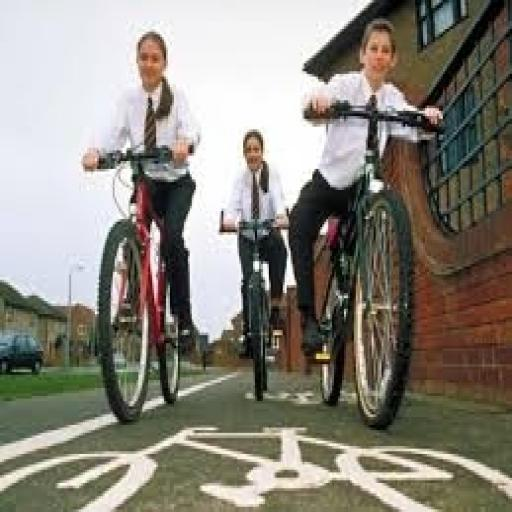cycling: (286, 16, 446, 359), (79, 26, 206, 354), (220, 127, 292, 359)
